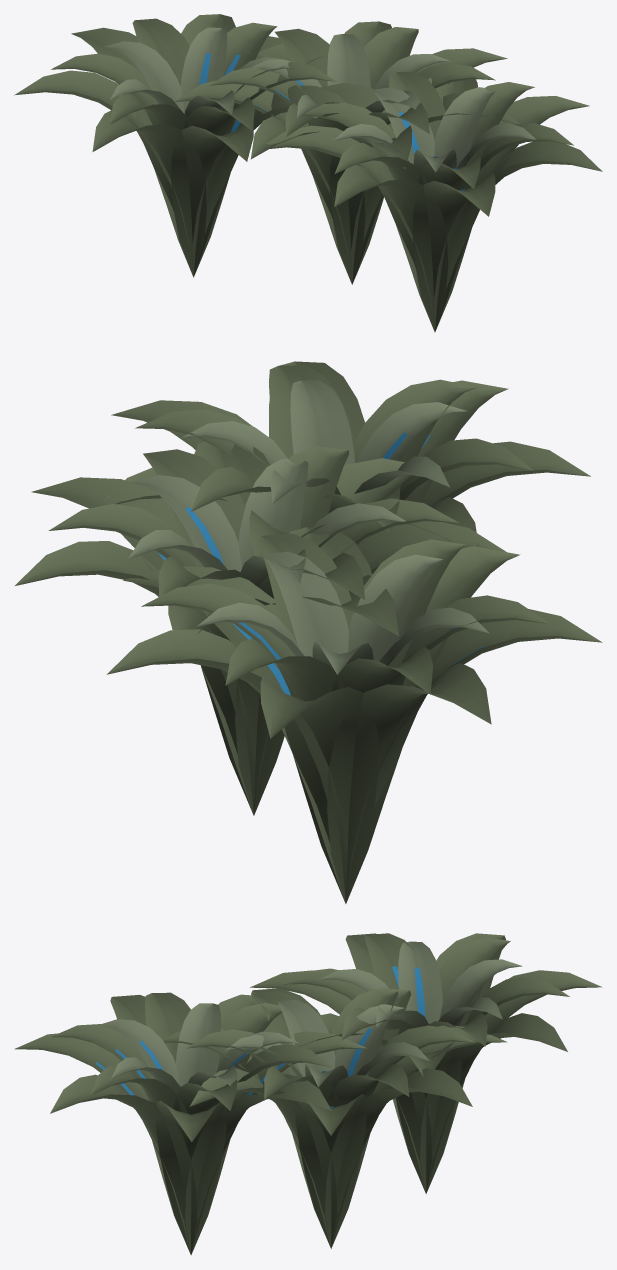
File: blue-bracts-dry.glb
The picture shows the model from 3 angles, top to bottom: view 1: azimuth 30°, elevation 25°; view 2: azimuth 150°, elevation 25°; view 3: azimuth 270°, elevation 25°; orthographic projection. The views are drawn at different scales.
Visible parts, largest first — view 1: LAND04 blue-bracts-dry; view 2: LAND04 blue-bracts-dry; view 3: LAND04 blue-bracts-dry.
Boxes of the visible parts, x1,y1,x2,y2 form: LAND04 blue-bracts-dry: (14, 14, 602, 332); LAND04 blue-bracts-dry: (15, 361, 602, 903); LAND04 blue-bracts-dry: (15, 933, 602, 1255).
Size of the model in its own units: 1.81 by 0.8743 by 2.18.
